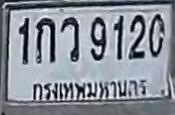0: (148, 13, 164, 56)
1: (18, 17, 29, 64), (114, 15, 124, 59)
2: (128, 14, 144, 58)
9: (90, 16, 106, 60)
A01: (35, 17, 55, 63)
A37: (60, 16, 78, 61)
BKK: (29, 75, 152, 101)
